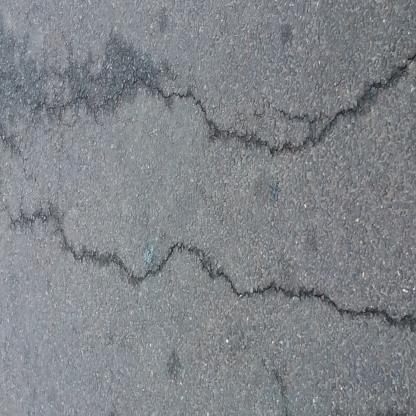Cracks: (0, 0, 416, 162), (8, 208, 416, 342)
